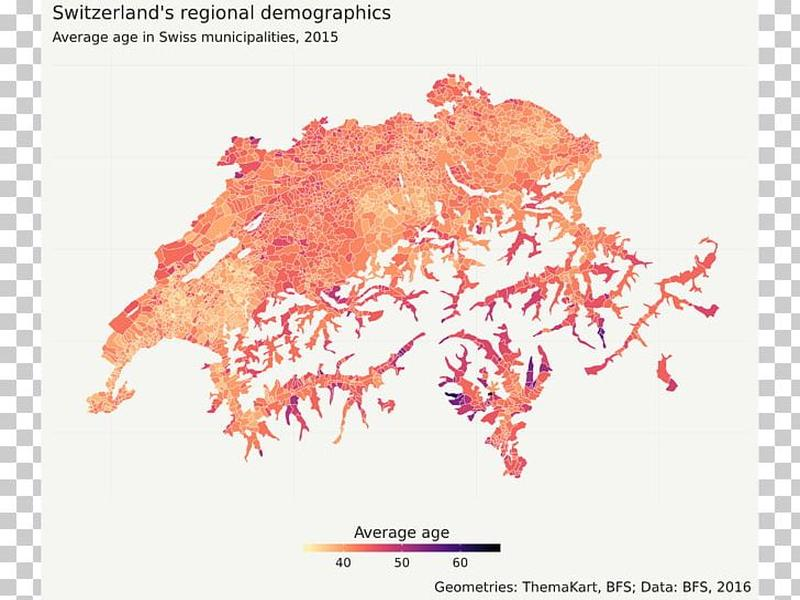legend: (304, 522, 503, 571)
